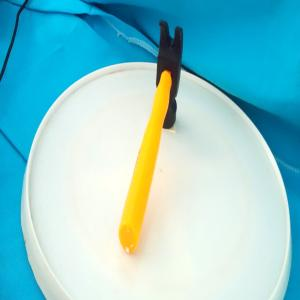martelo: (118, 15, 186, 255)
